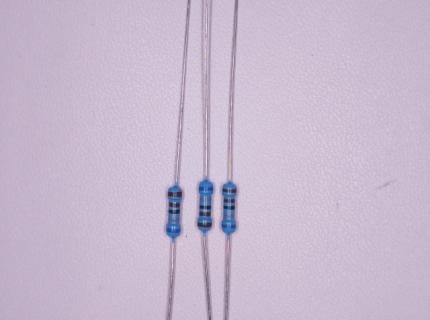Black band: (199, 205, 211, 210), (168, 209, 180, 214), (224, 205, 235, 210)
Blue band: (166, 228, 181, 233), (222, 224, 236, 229), (198, 187, 213, 191)
Brown band: (197, 222, 212, 228), (168, 191, 182, 197), (222, 188, 237, 193), (168, 202, 180, 207), (199, 212, 211, 217), (223, 198, 235, 203)
Grey band: (223, 214, 235, 218), (168, 218, 179, 222), (200, 198, 211, 201)
